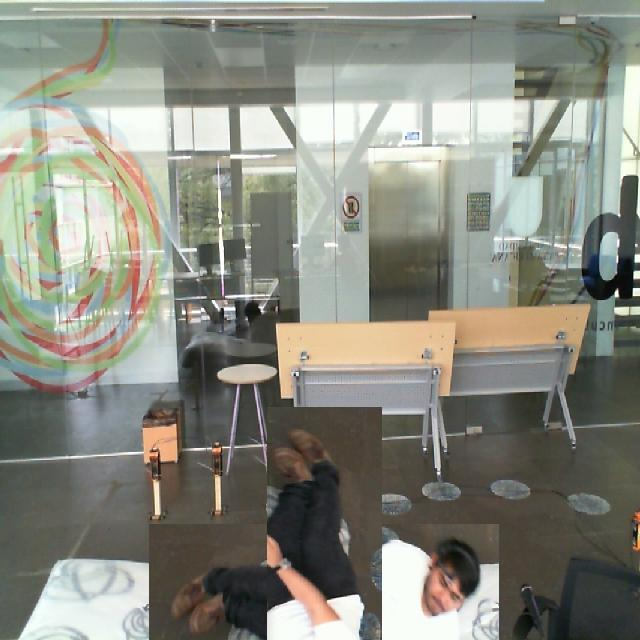Fall: (121, 482, 499, 640)
